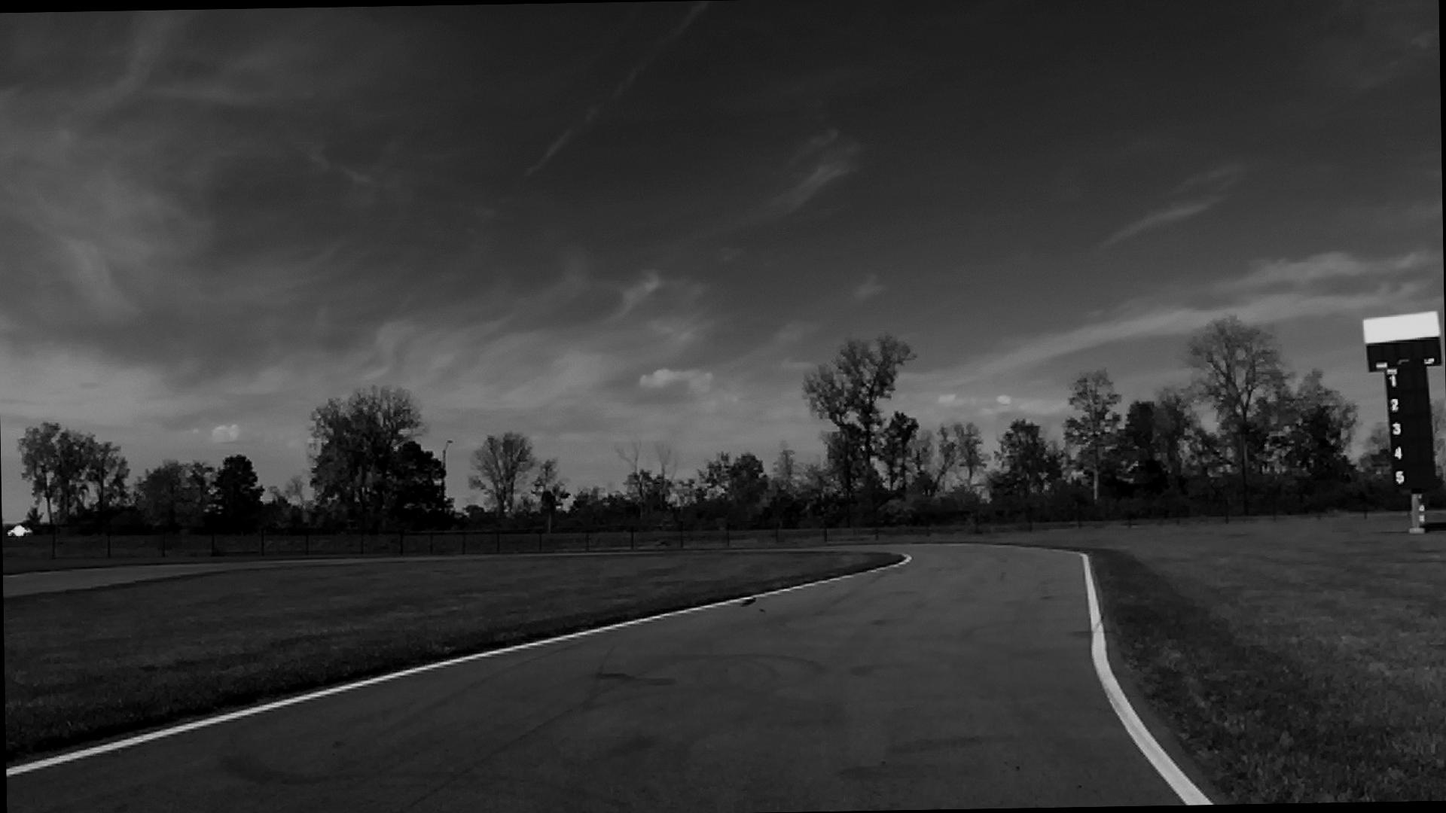white-line: (6, 572, 860, 777), (1078, 552, 1216, 805)
